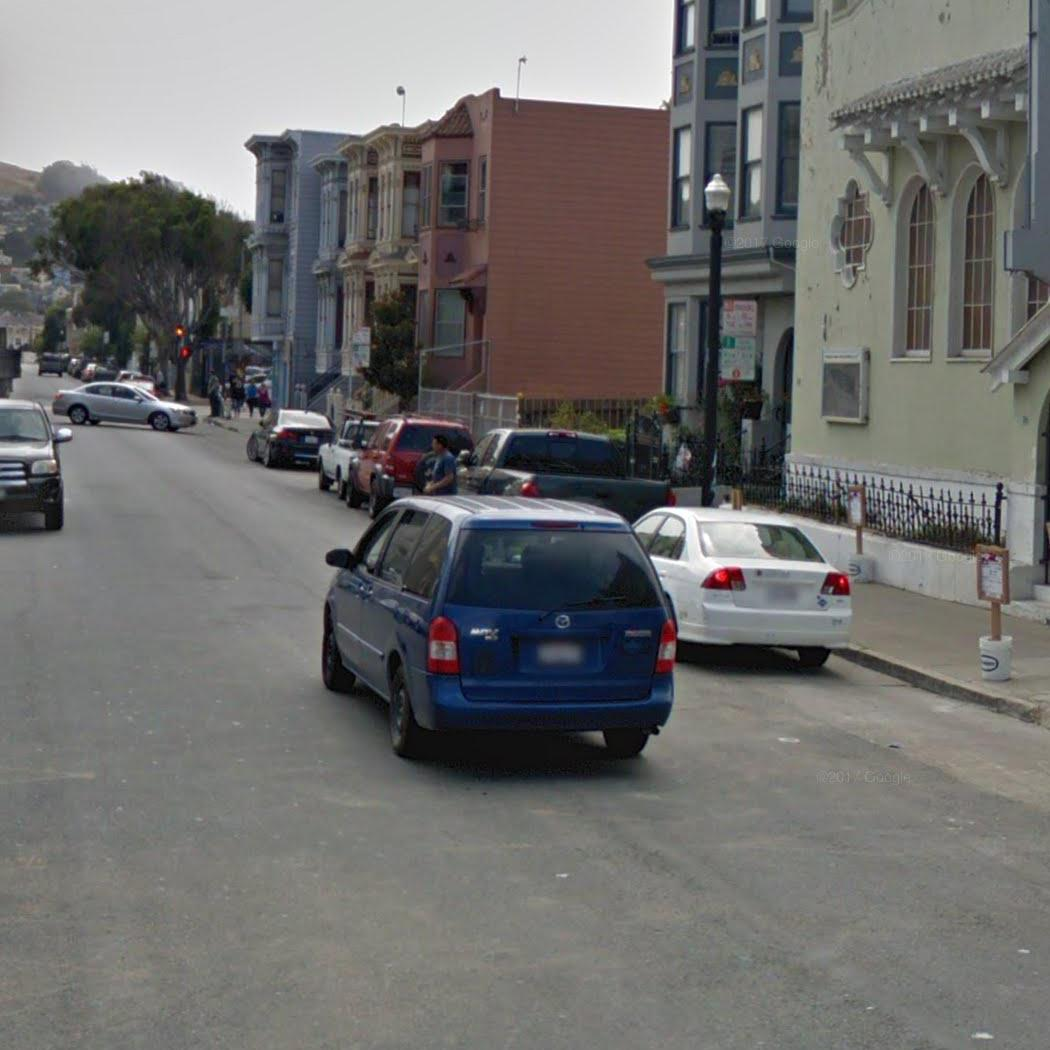1 Hour Parking: (715, 338, 758, 382)
No Parking: (719, 297, 759, 339)
